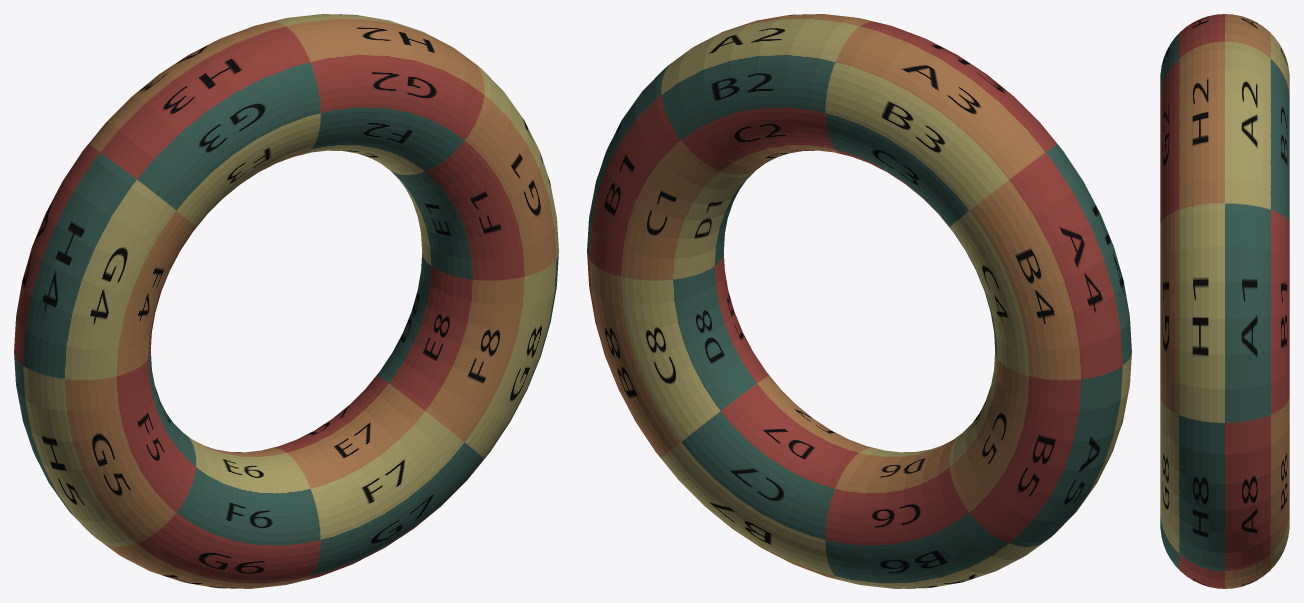
File: texture_torus_R16_r15.glb
The picture shows the model from 3 angles, left to right: view 1: azimuth 30°, elevation 25°; view 2: azimuth 150°, elevation 25°; view 3: azimuth 270°, elevation 25°; orthographic projection. The views are drawn at different scales.
Parts seen in each view (by area): view 1: world; view 2: world; view 3: world.
Part boxes in pixels (bbox=[...]): world: bbox=[14, 14, 558, 588]; world: bbox=[587, 14, 1131, 588]; world: bbox=[1160, 14, 1289, 588].
Bounding box in the file's own units: 26.67 × 26.61 × 5.99.
1 material, 1 textured.
